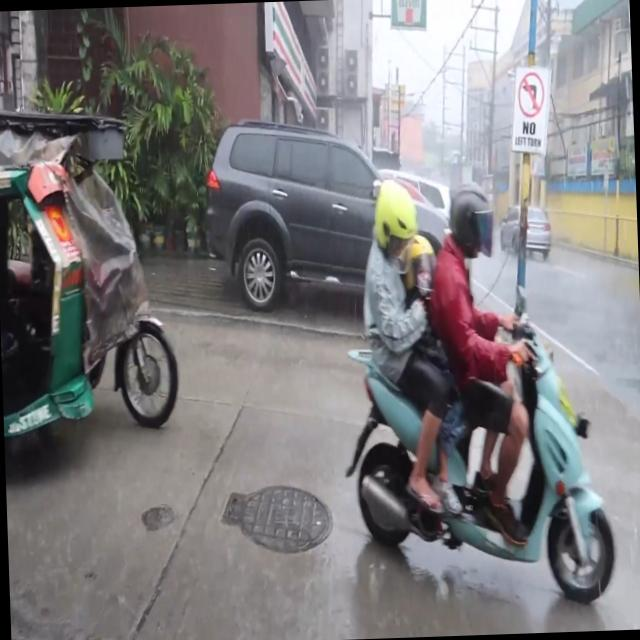half: (444, 175, 496, 266), (370, 176, 419, 265), (399, 225, 441, 306)
